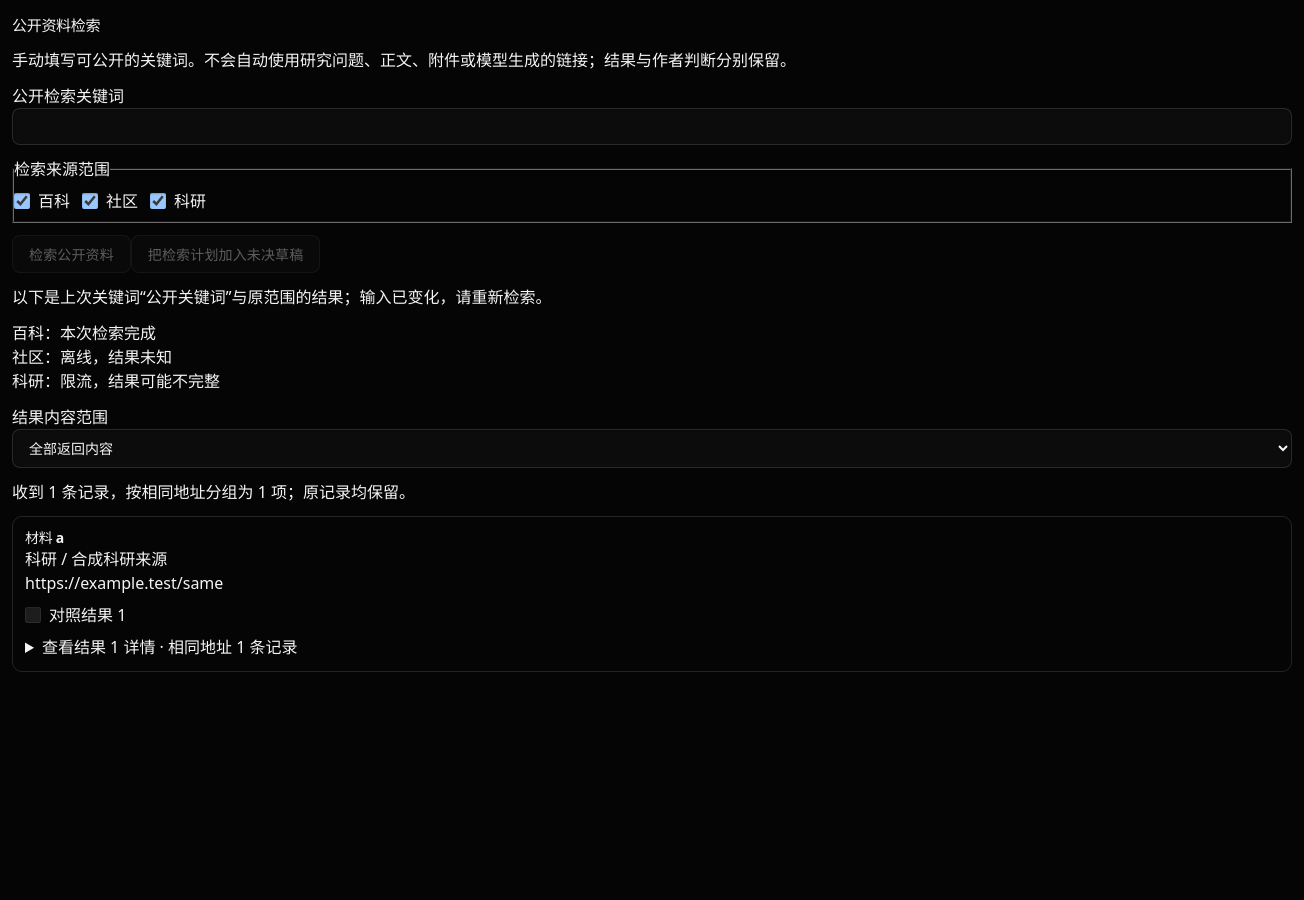
Scenario: keeps old query and scope results visible but disallows binding or comparison save
The image size is (1304, 900).
Step 1. Type "公开关键词" into the field labelled "公开检索关键词" → {"x": 652, "y": 126}, box left=12, top=108, right=1292, bottom=144
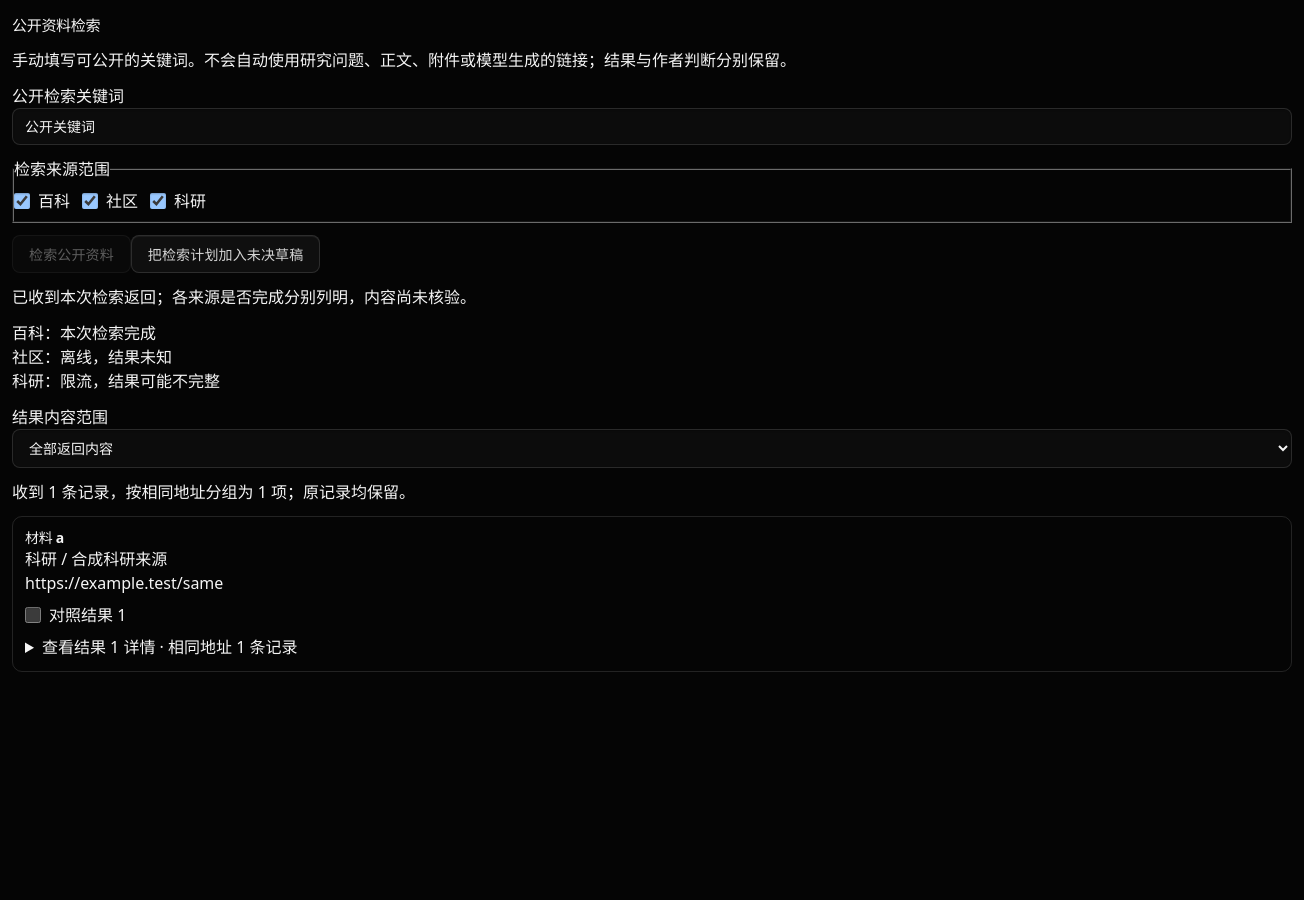
Step 2. Click the checkbox labelled "对照结果 1" → {"x": 33, "y": 615}, box left=25, top=607, right=41, bottom=623
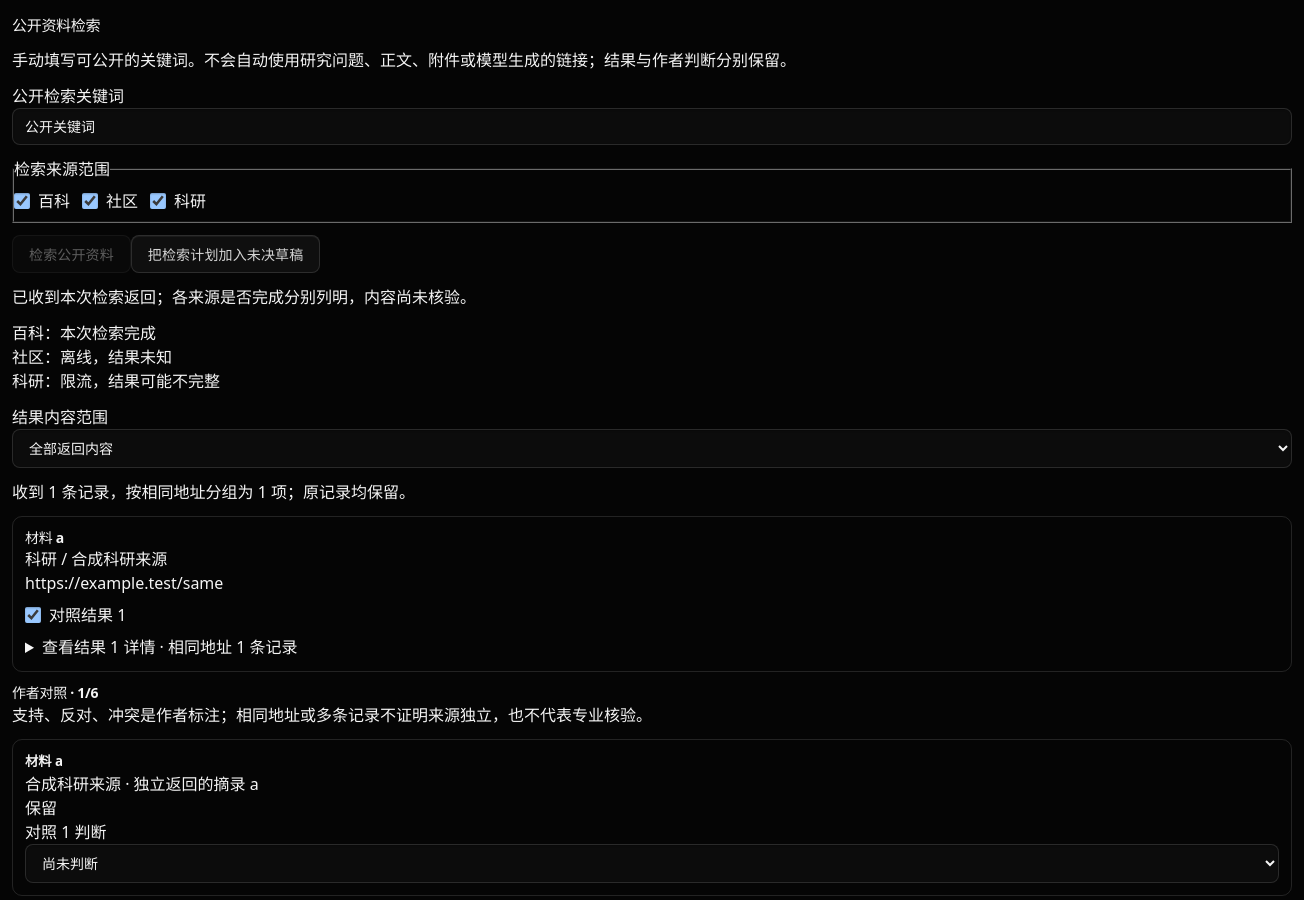
Step 3. Replace the text in the field labelled "公开检索关键词" with "新关键词" → {"x": 652, "y": 126}, box left=12, top=108, right=1292, bottom=144
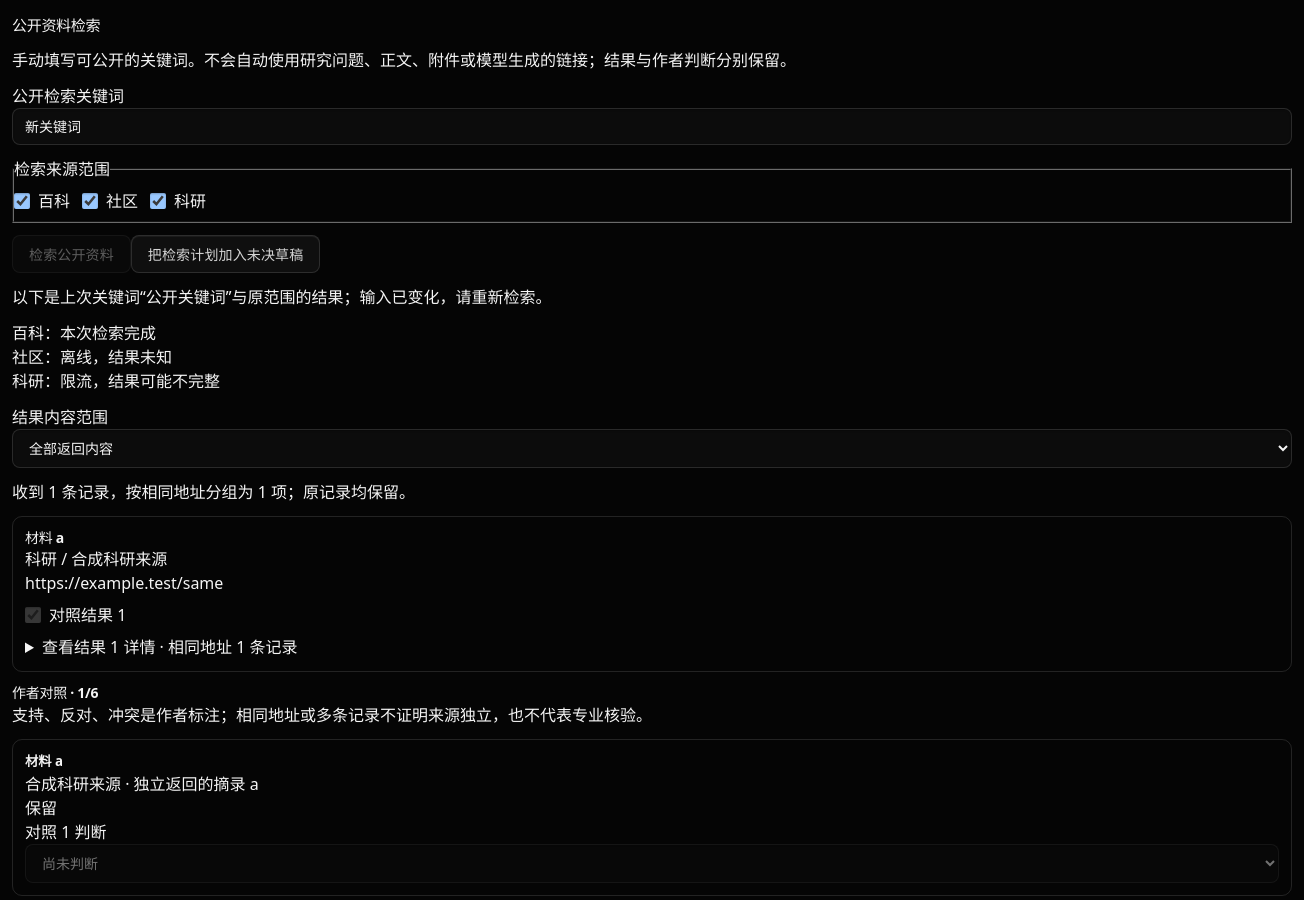
Check: the checkbox labelled "对照结果 1" is disabled, box left=25, top=607, right=41, bottom=623
Check: the text "以下是上次关键词“公开关键词”与原范围的结果；输入已变化，请重新检索。" is shown, box left=12, top=286, right=552, bottom=308
